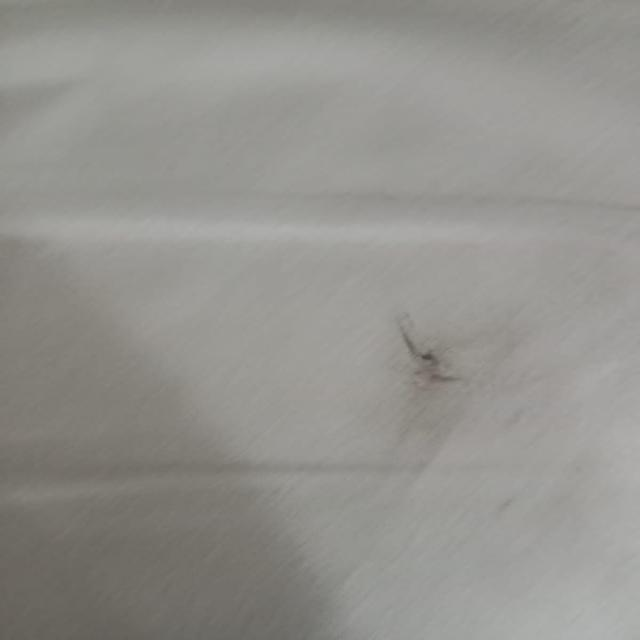stain: (361, 306, 500, 394)
